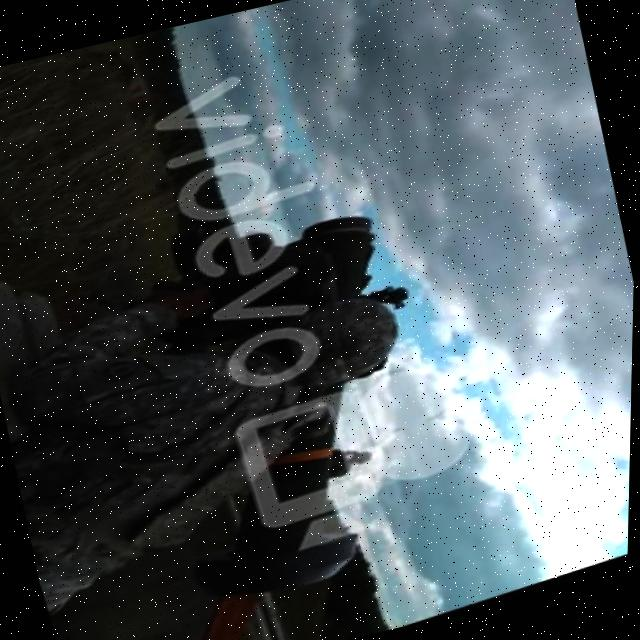rocket: (159, 382, 403, 622)
